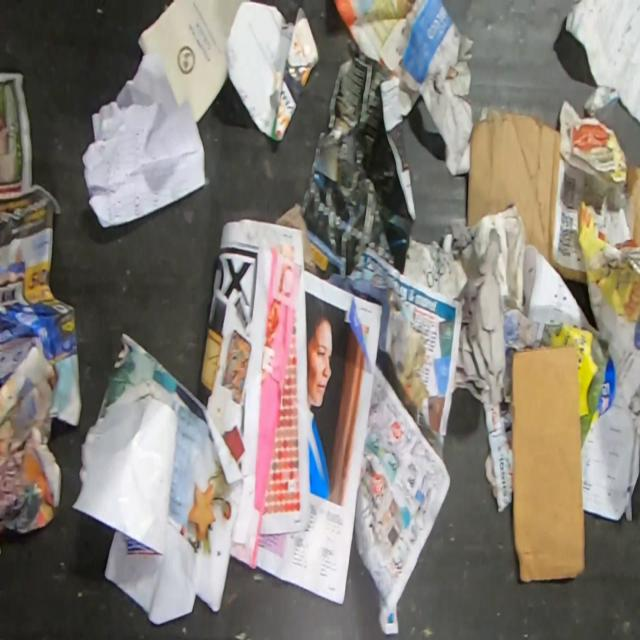cardboard: (467, 104, 640, 287), (510, 342, 586, 583)
